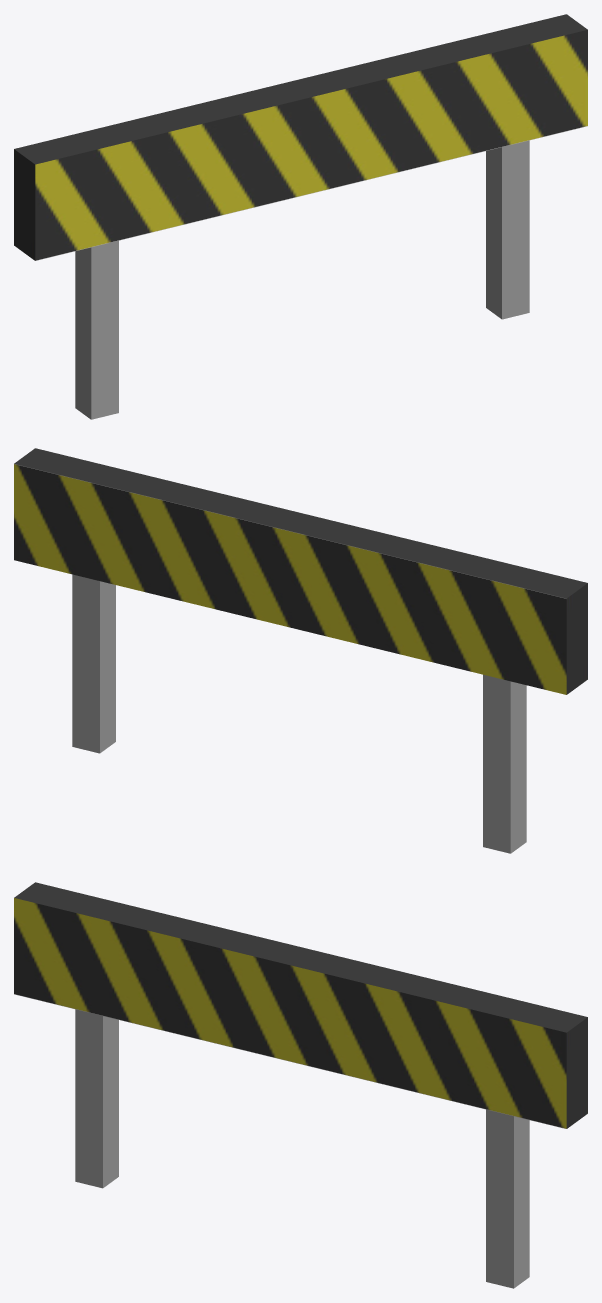
Rendered from Traffic_road_barrier_1.FBX.
The picture shows the model from 3 angles, top to bottom: view 1: azimuth 30°, elevation 25°; view 2: azimuth 150°, elevation 25°; view 3: azimuth 330°, elevation 25°; orthographic projection.
Parts seen in each view (by area): view 1: Traffic road barrier 01; view 2: Traffic road barrier 01; view 3: Traffic road barrier 01.
Boxes of the visible parts, box(x1,y1,x2,y2) form: Traffic road barrier 01: box(14, 14, 587, 419); Traffic road barrier 01: box(14, 448, 587, 853); Traffic road barrier 01: box(14, 882, 587, 1288).
Bounding box in the file's own units: 2.3 × 1.08 × 0.1535.
1 material, 1 textured.
